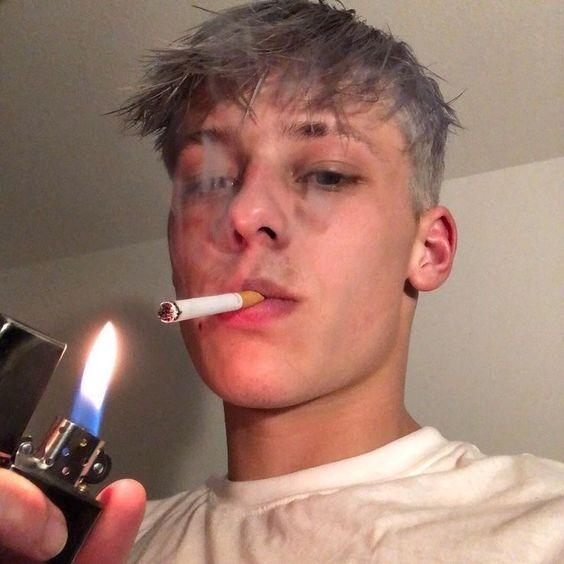cigarette: (157, 290, 266, 323)
